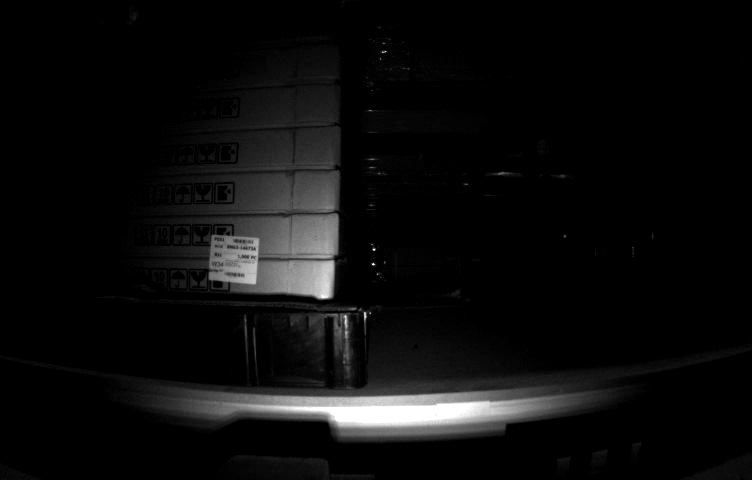True Barcode: (206, 236, 260, 290)
